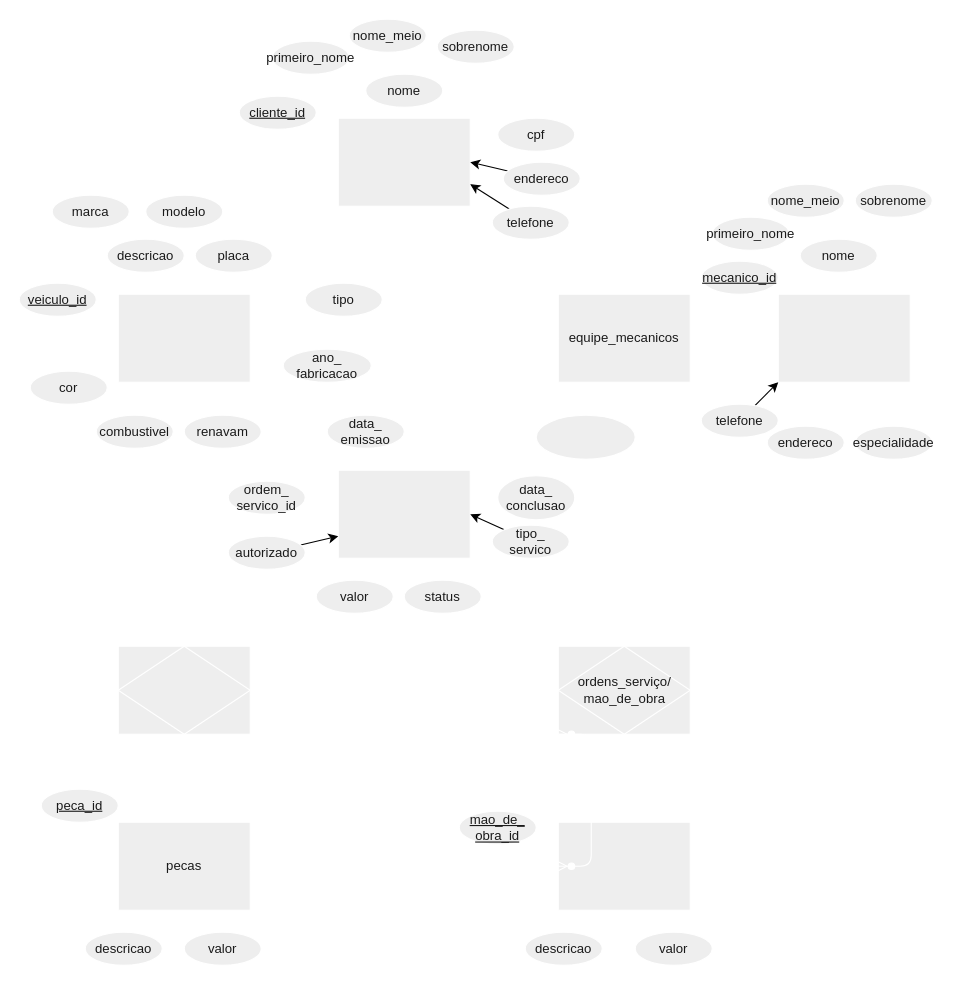
Image size: 953x985. Some labels were removed from this diagram. The box of each missing label's shape, as (x1, y1, x2, y2) in pixels:
clientes: (337, 117, 470, 206)
equipe_ mecanicos_id: (535, 414, 635, 459)
mao_de_obra: (557, 821, 690, 910)
mecanicos: (777, 293, 910, 382)
ordens_servico: (337, 469, 470, 558)
ordens_serviço/ peças_utilizadas: (117, 645, 250, 734)
veiculos: (117, 293, 250, 382)
